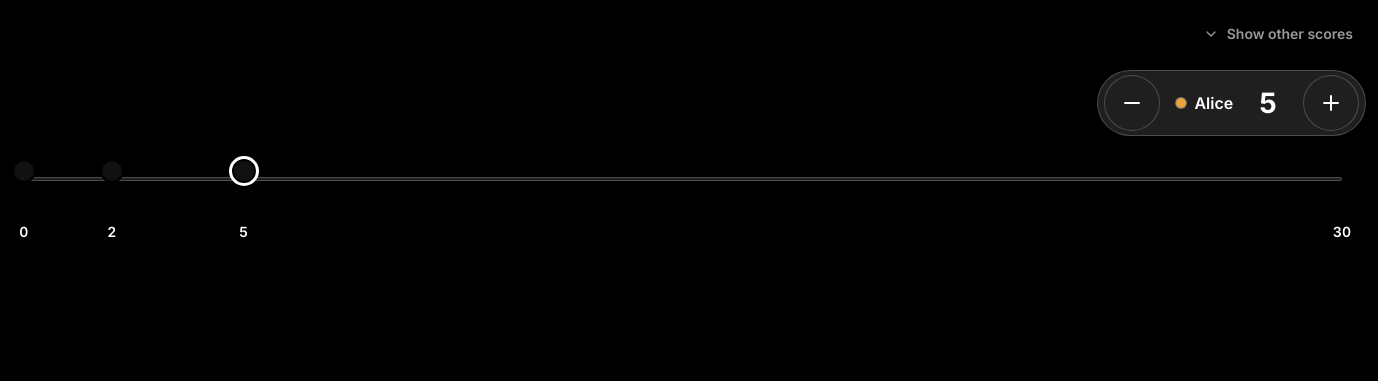
ScorePanel: catch-up stack › hides the others stack by default and reveals it on toggle
The image size is (1378, 381).
What coordinates should you click on to do the following:
click the button "Show other scores"
I would click on:
 (1278, 34)
Its box is [1190,12,1366,56].
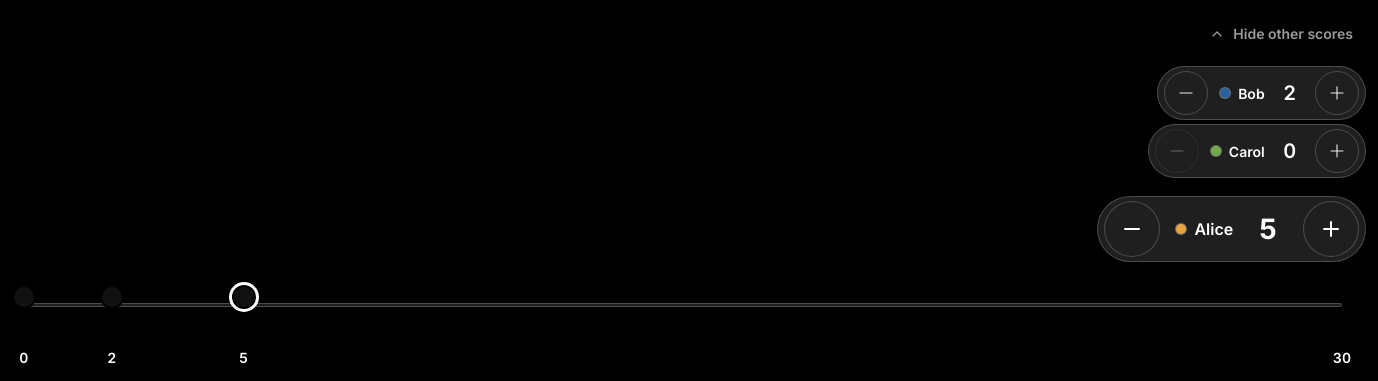
Expected: the element named "other player scores" is shown, [1148,66,1366,178]
Expected: the button "Hide other scores" is expanded, [1196,12,1366,56]
